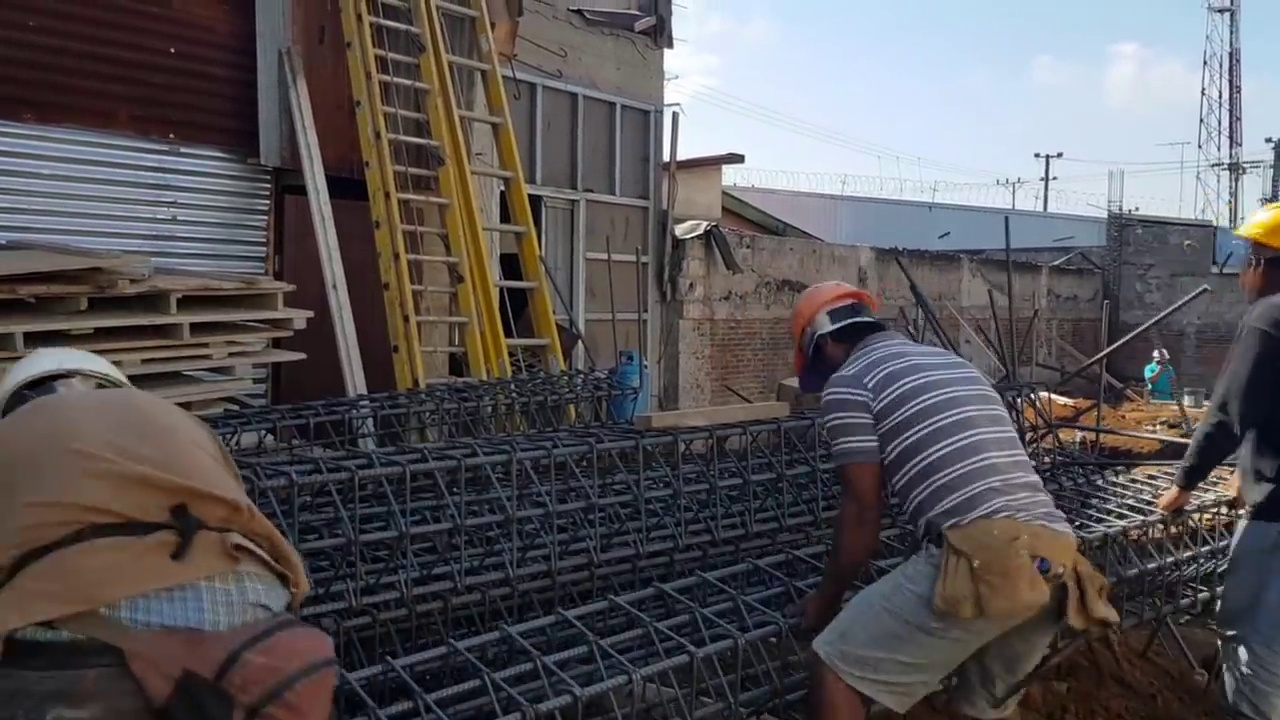helmet: (0, 340, 141, 410), (785, 285, 880, 382), (1235, 208, 1280, 252), (1151, 351, 1170, 362)
helmet-on: (786, 286, 897, 395), (1230, 198, 1280, 316), (1151, 350, 1170, 367)
person: (784, 285, 1113, 711), (0, 345, 342, 720), (1148, 197, 1280, 706), (1145, 350, 1178, 402)
